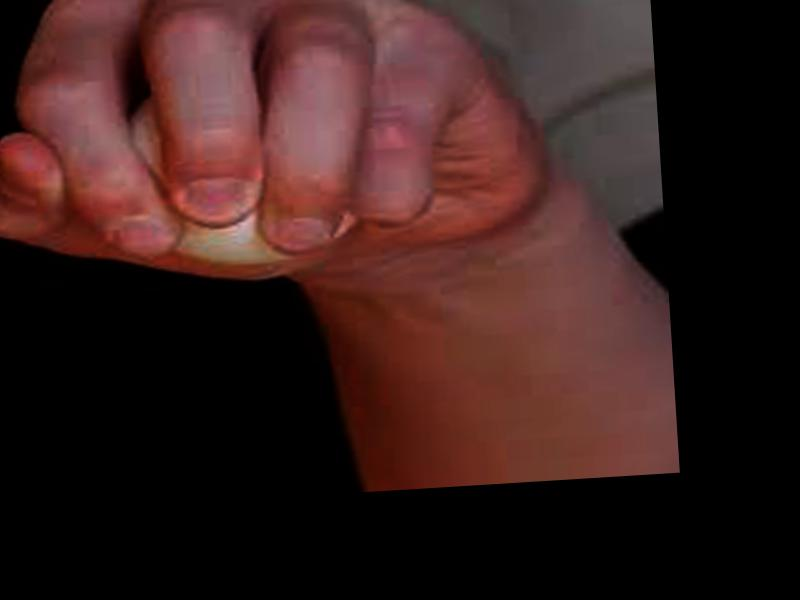Eggs: (100, 81, 359, 274)
